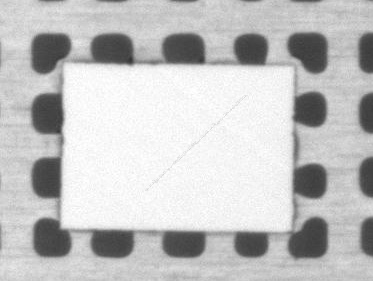DIE_CRACK: (194, 72, 327, 143)
